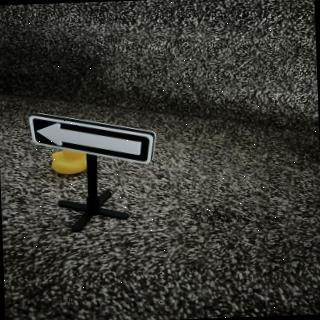duck_regular: (52, 149, 90, 177)
sign_oneway_left: (30, 111, 158, 170)
